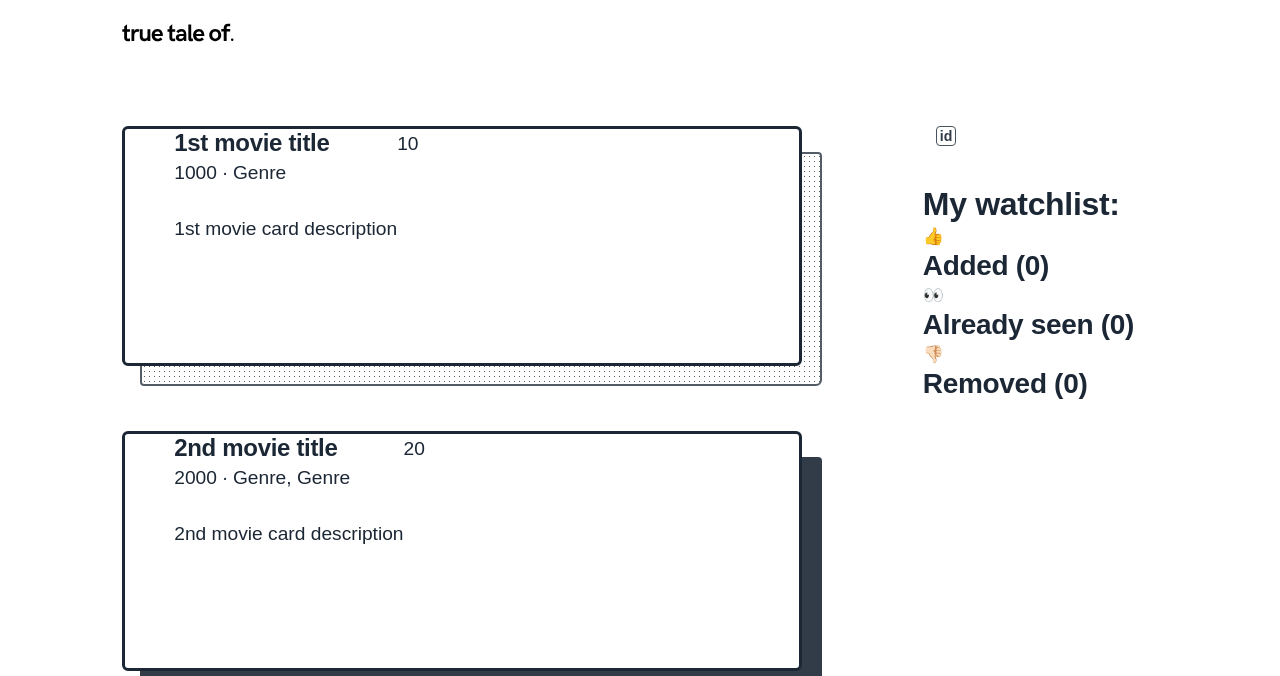
Test case: Movie card › should collapse when clicked once
What coordinates should you click on to do the following:
click the element with test id "cy-movie-card" that starts with "1st movie title"
I would click on:
 (462, 246)
Its box is [122,126,802,366].
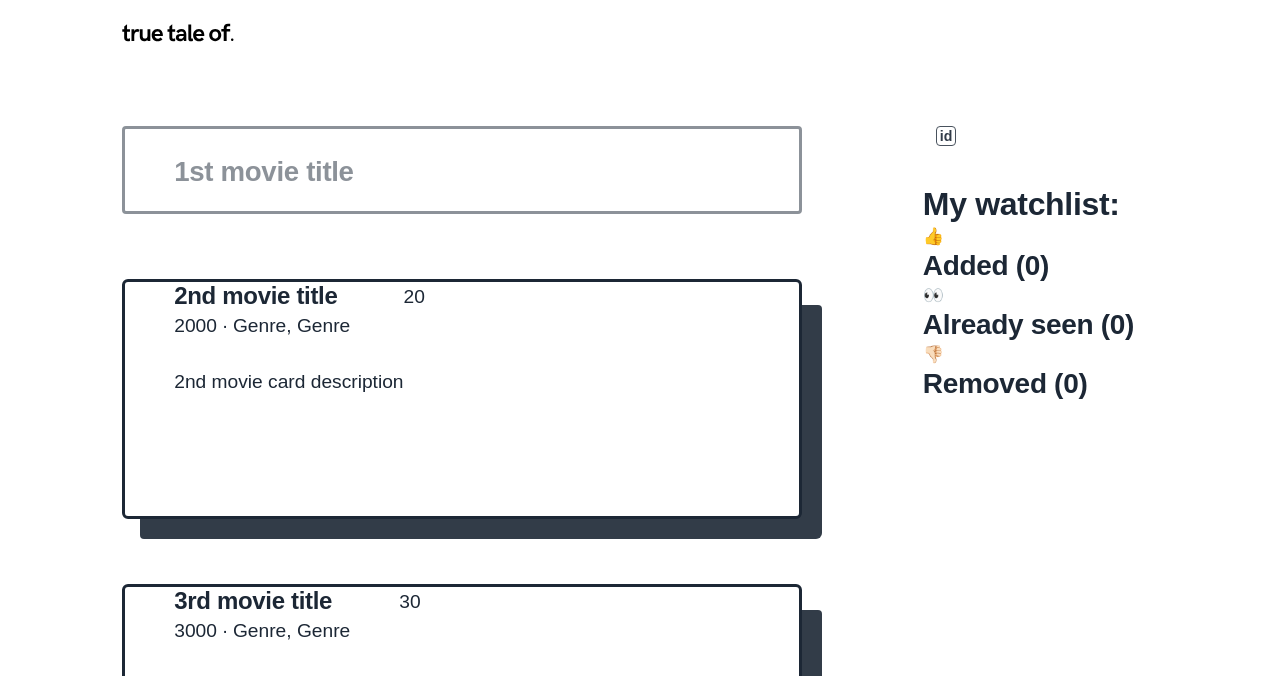
Expected: the heading "1st movie title" is shown, [174,155,354,188]
Expected: the text "1st movie card description" is gone
